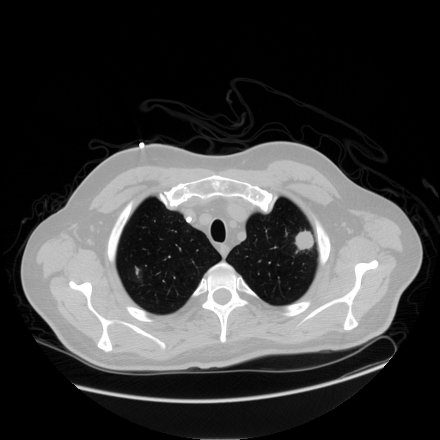nodule: (294, 230, 314, 250)
